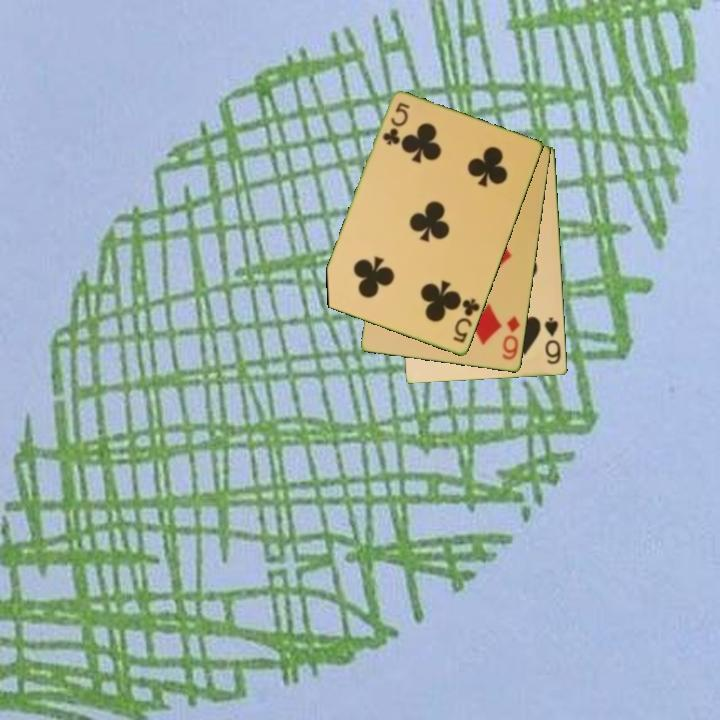5c: (450, 295, 483, 346), (379, 99, 413, 148)
6d: (499, 313, 523, 363)
6s: (541, 314, 564, 367)
